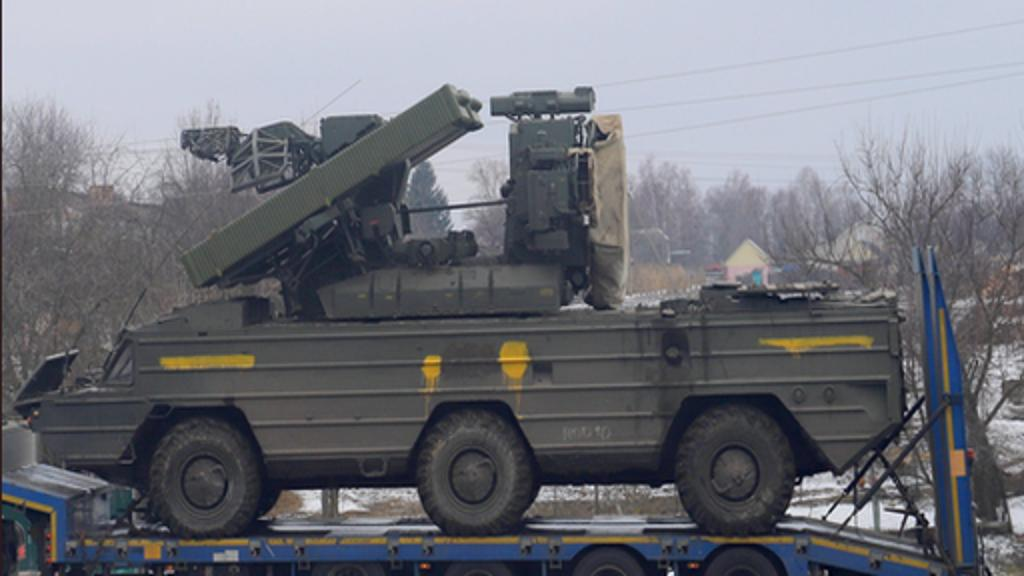MLRS: (18, 64, 906, 540)
